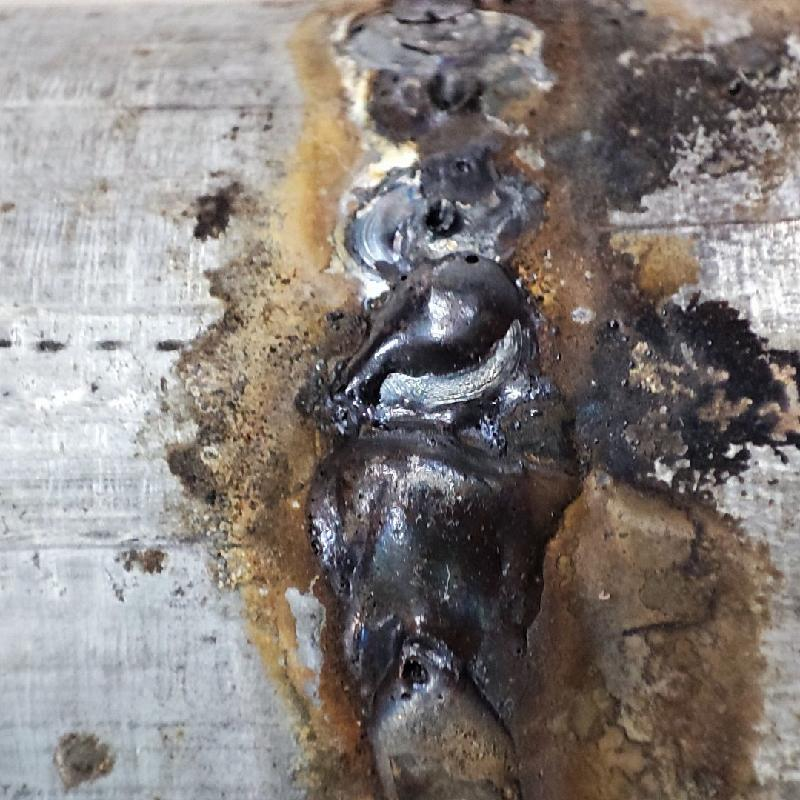Not_fully_soldered: (319, 0, 559, 265)
Surface_pores: (448, 244, 496, 276)
